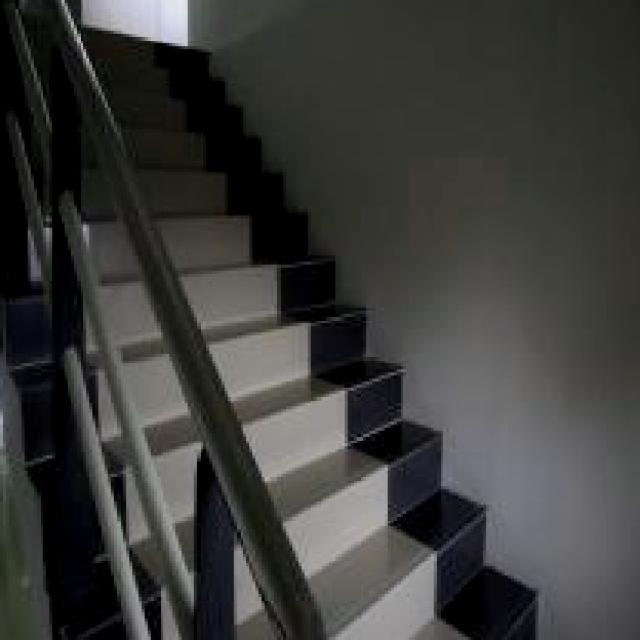upstair: (121, 54, 284, 251)
